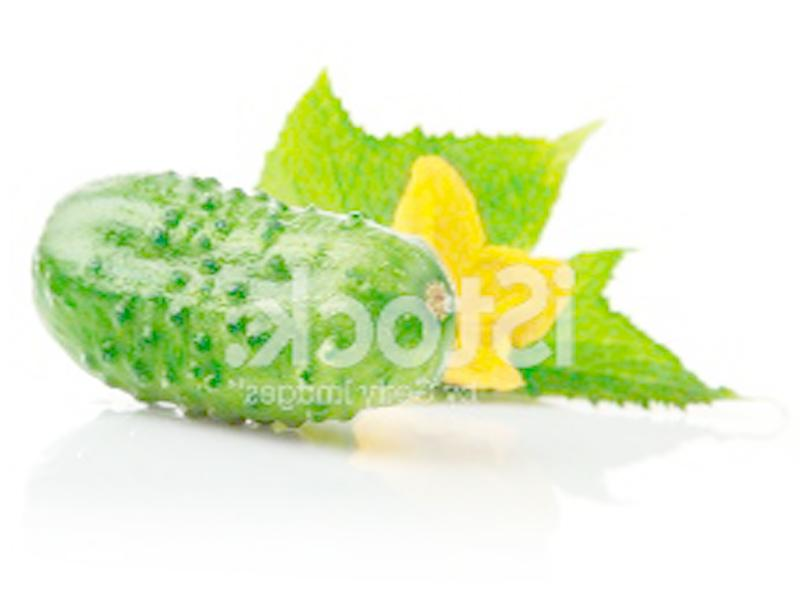Cucumber: (31, 172, 450, 423)
